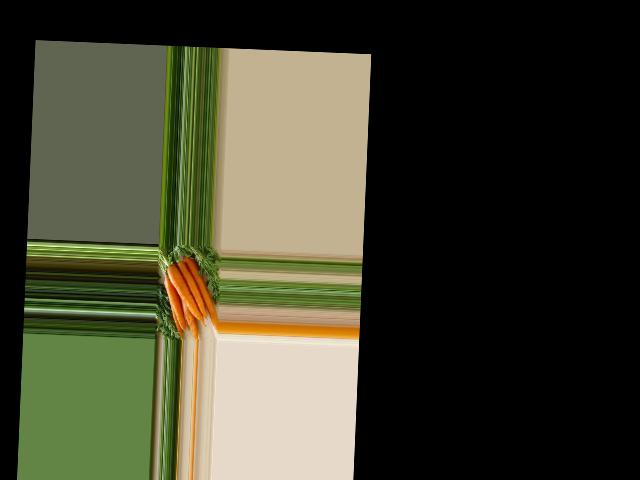carrot: (180, 251, 222, 331)
